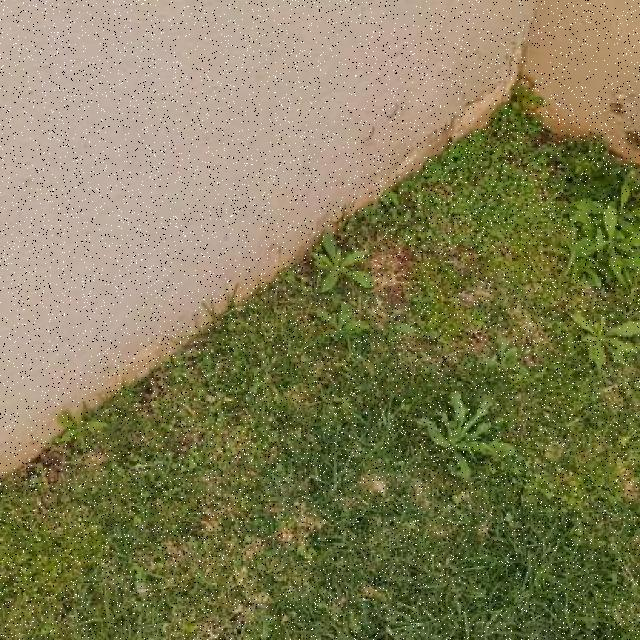weed: (418, 392, 518, 481), (312, 232, 374, 293)
